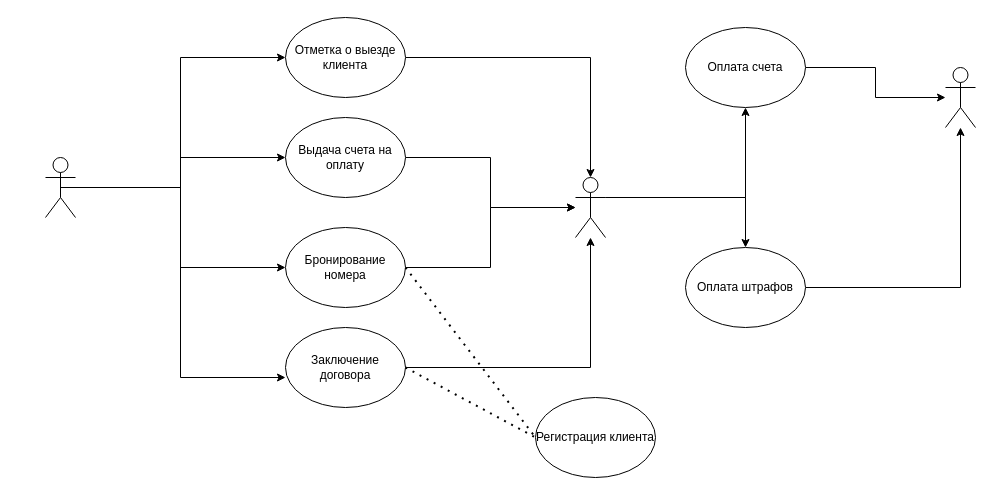
The diagram is 997 pixels wide and 495 high, and some of its shapes have lost their labels. The centre of each missing label's shape, as x and y in pixels:
Администратор: [60,187]
Кассир: [960,97]
Клиент: [590,207]
